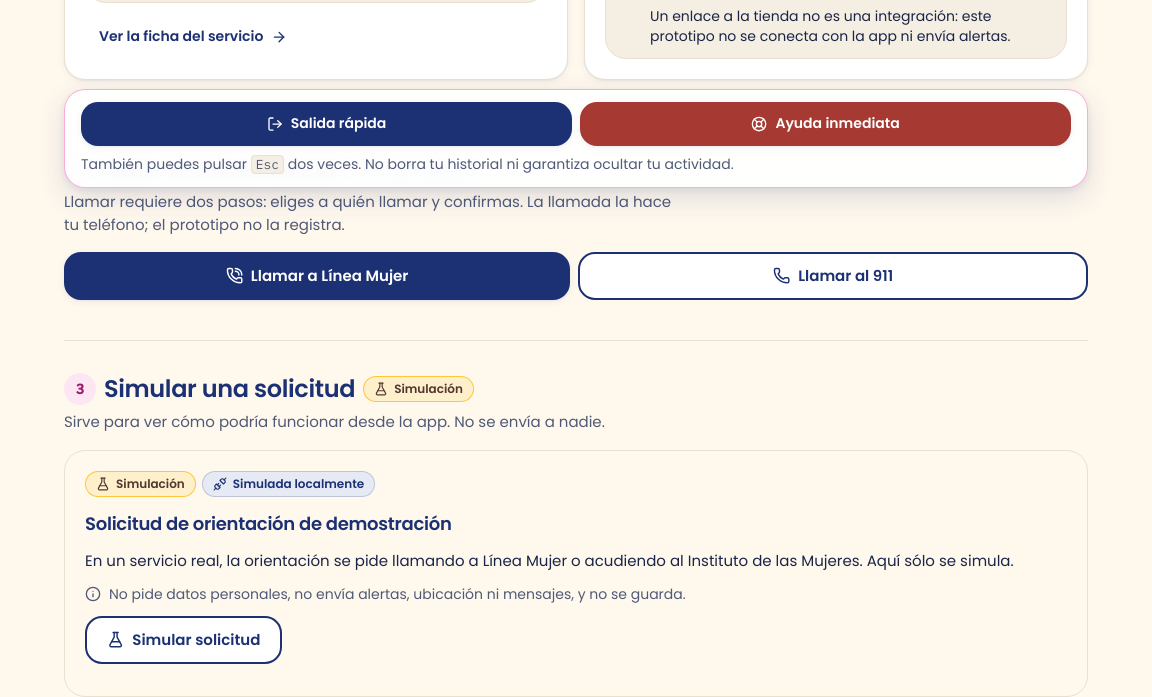
Test: Línea Mujer › la solicitud simulada dice que nadie la recibió
The width and height of the screenshot is (1152, 697).
(page scrolled)
Click the button "Simular solicitud" at (184, 640), box [85,616,282,664]
(page scrolled)
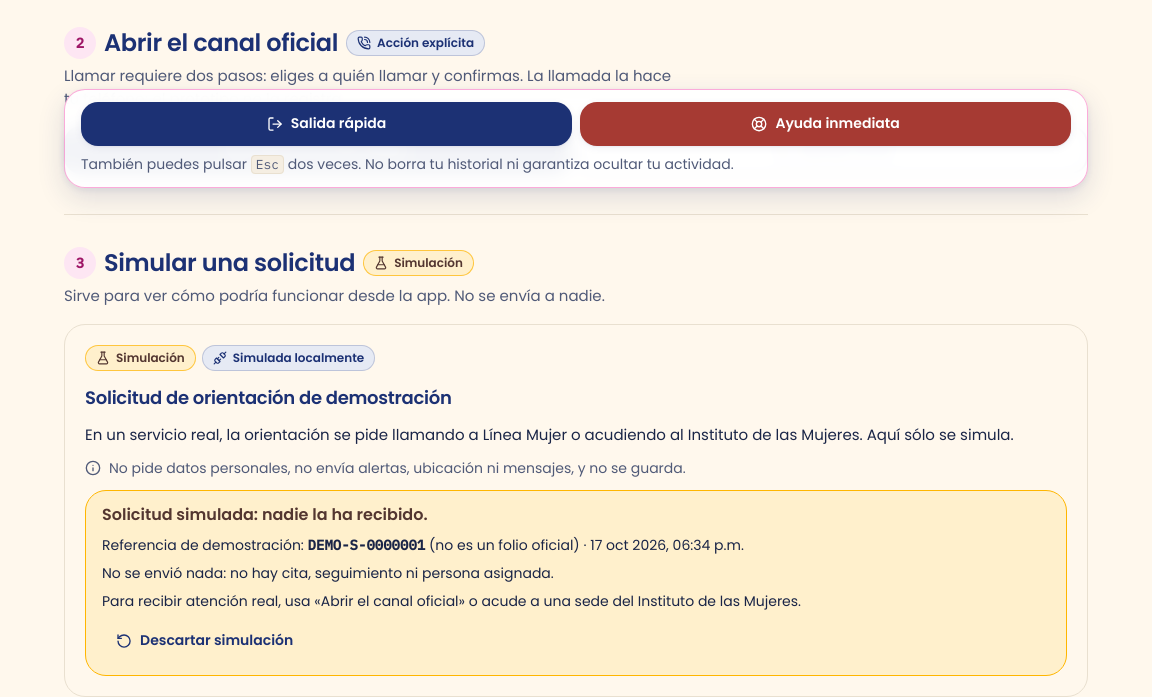
Now the text "Solicitud simulada: nadie la ha recibido." is shown, box [102,503,428,526]
Now the text "DEMO-S-0000001" is shown, box [308,536,425,554]
Now the text "no hay cita, seguimiento ni persona asignada" is shown, box [102,563,554,583]
